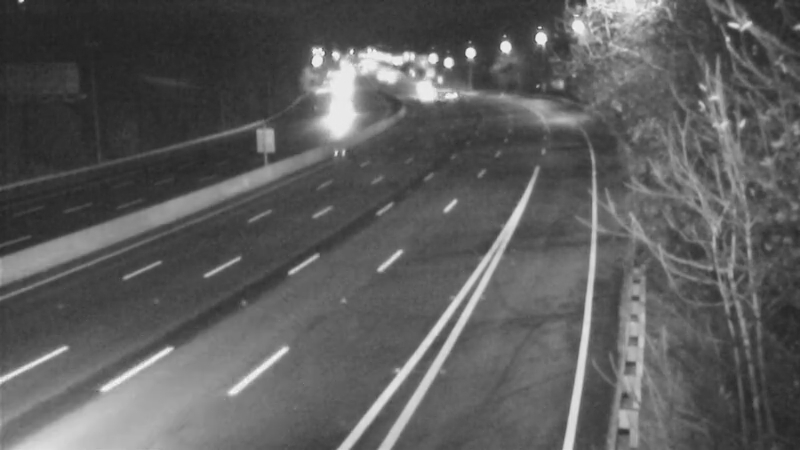vehicle: (395, 60, 445, 110), (424, 71, 474, 121), (400, 71, 450, 121), (315, 96, 365, 146)
